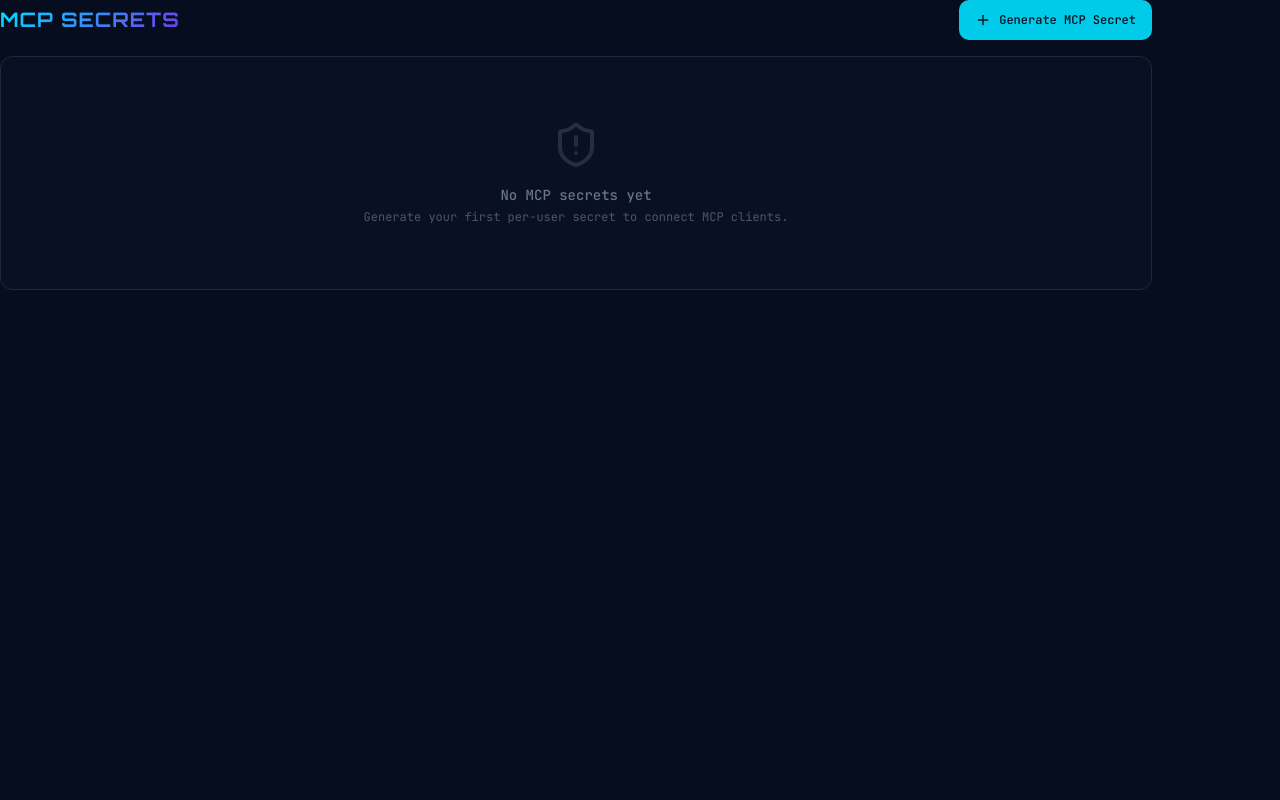
Test: ApiKeysPage › renames a newly generated secret from the one-time copy dialog
Later steps or results of the test are not shown.
expect the heading "MCP SECRETS" is shown: met, box [0,6,180,34]
Click the button "Generate MCP Secret". click: (1056, 20)
box: [959,0,1152,40]
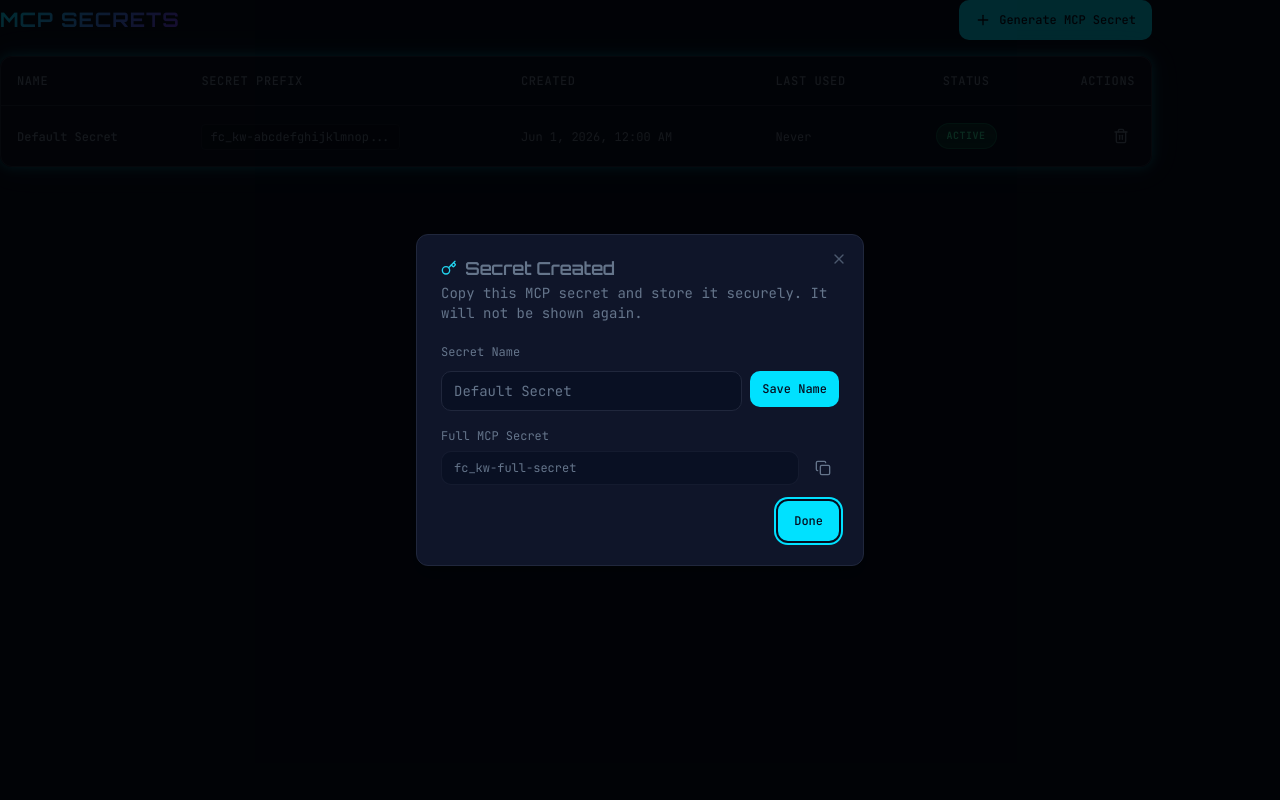
expect the text "fc_kw-full-secret" is shown: met, box [441,451,799,485]
